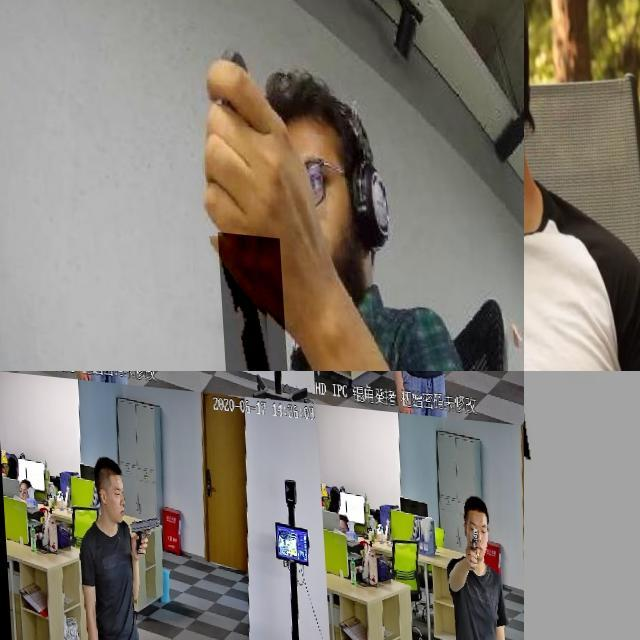-: (213, 225, 288, 371), (524, 87, 611, 207)
gun-knife-thesis - v11 Yolov5 augmented: (524, 371, 640, 640), (120, 509, 157, 557), (158, 371, 195, 407), (421, 371, 458, 393), (458, 512, 474, 555)
